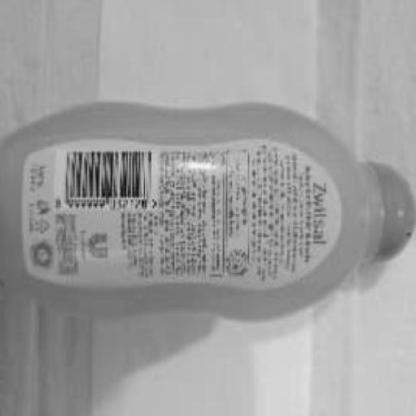objects: (0, 104, 416, 320)
